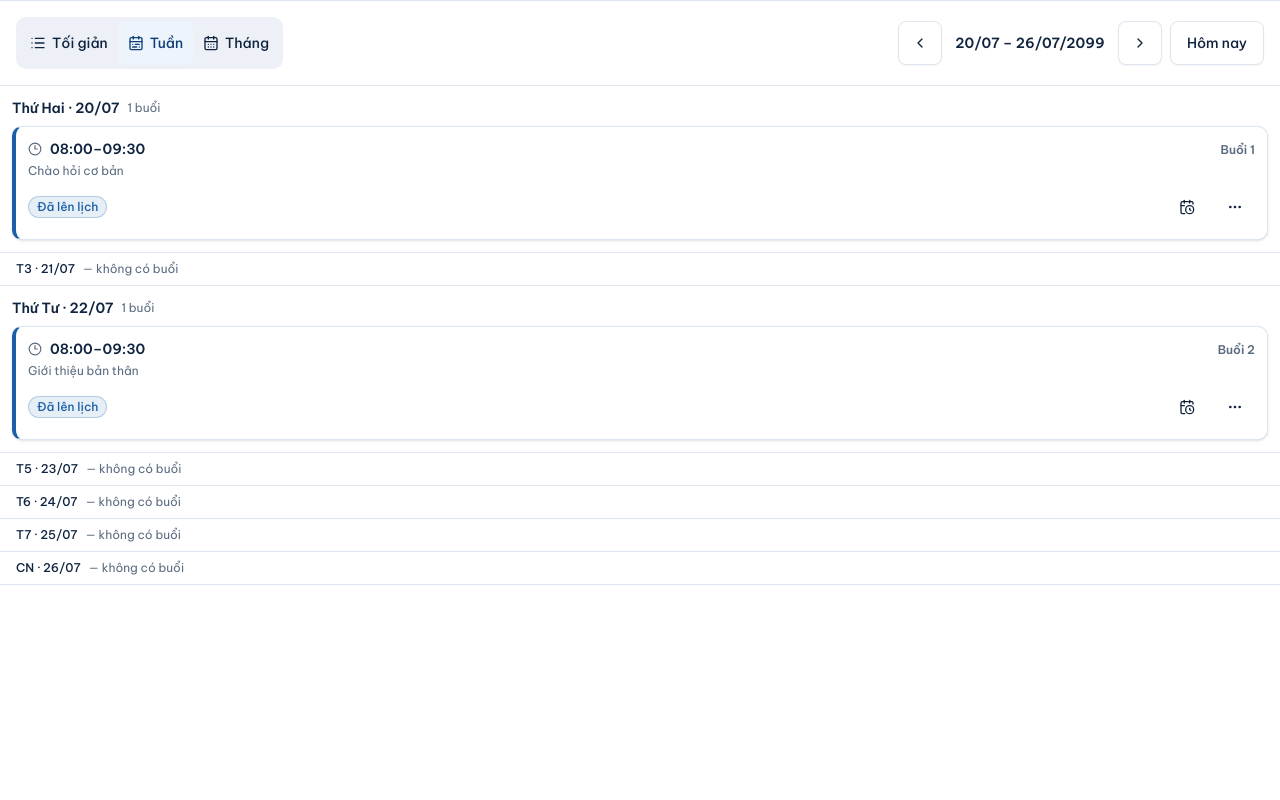
ScheduleManager — chuyển kiểu thời khóa biểu › đưa nghỉ/học bù thành thao tác chính và tách xóa sinh nhầm vào menu
Click the button named "Nghỉ học và xếp lịch bù cho buổi 1". click: click(1187, 207)
box: [1167,187,1207,227]
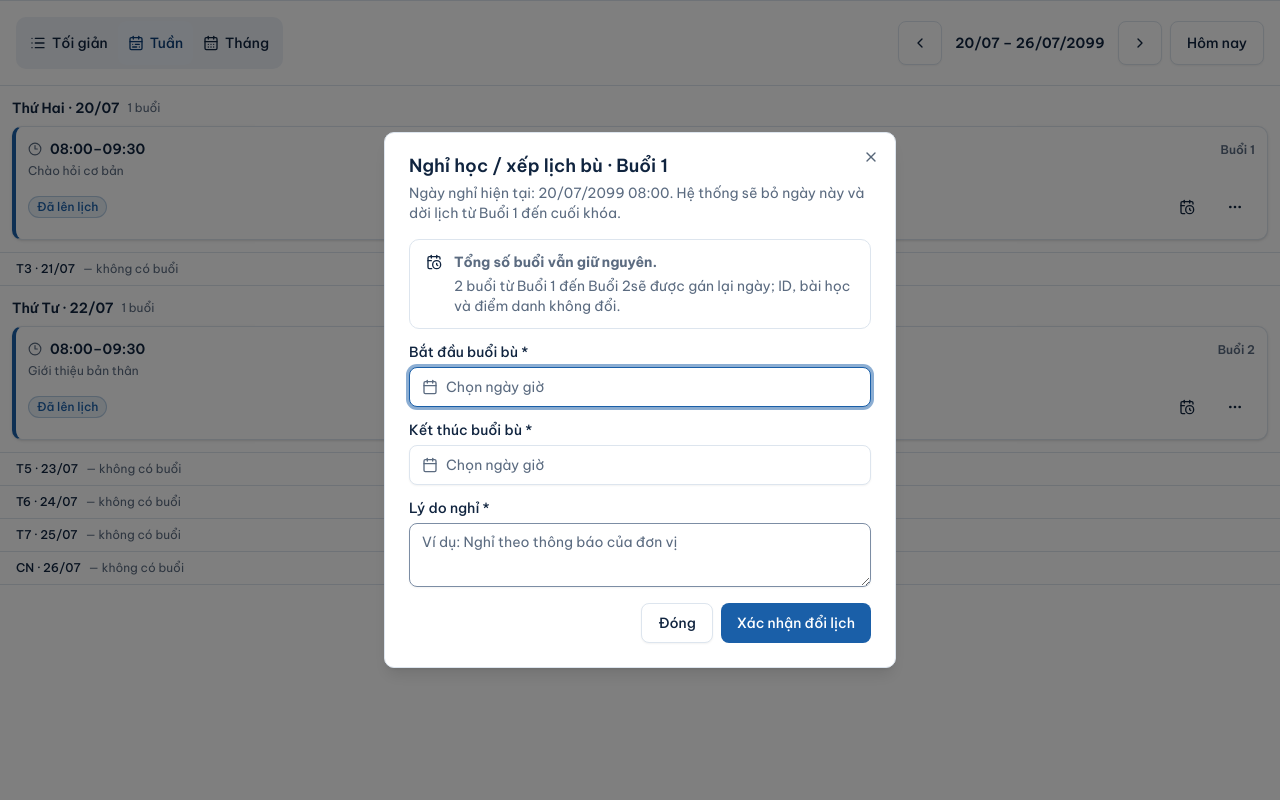
Now the heading "Nghỉ học / xếp lịch bù · Buổi 1" is shown, box [409,154,668,177]
Now the text "Tổng số buổi vẫn giữ nguyên." is shown, box [454,252,657,272]
Now the text "2 buổi từ Buổi 1 đến Buổi 2" is shown, box [454,252,854,316]
Click the button "Đóng". click: click(677, 623)
box: [641,603,713,643]
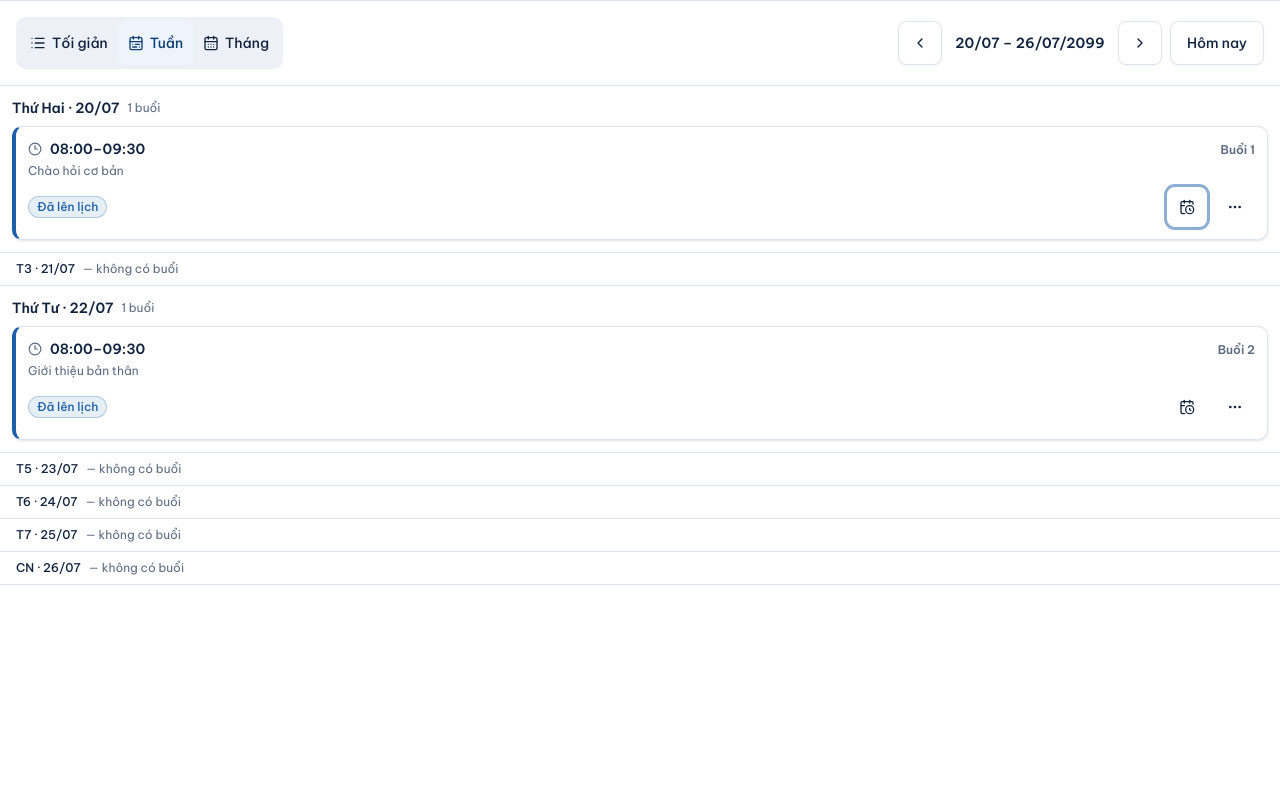
Click the button named "Thao tác khác cho buổi 1". click: click(1235, 207)
box: [1215,187,1255,227]
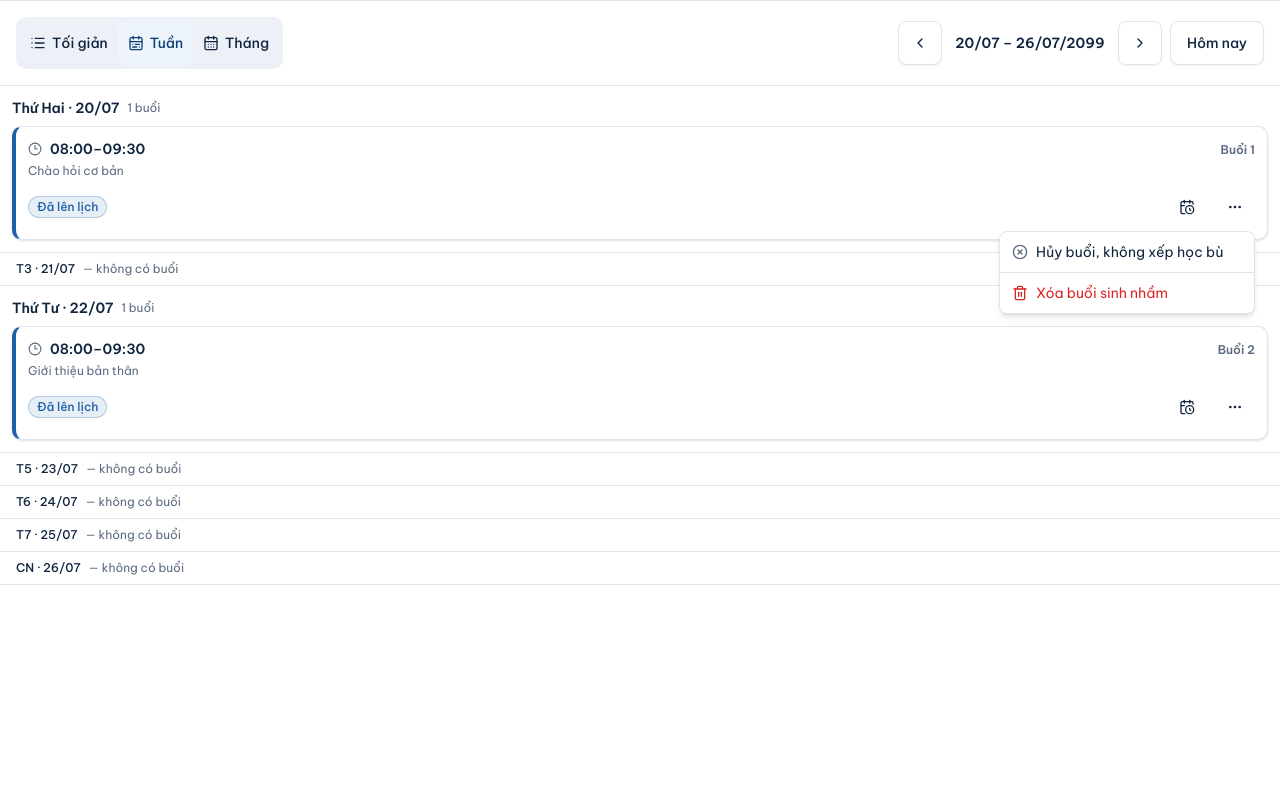
Now the menu item "Hủy buổi, không xếp học bù" is shown, box [1004,236,1250,268]
Now the menu item "Xóa buổi sinh nhầm" is shown, box [1004,277,1250,309]
